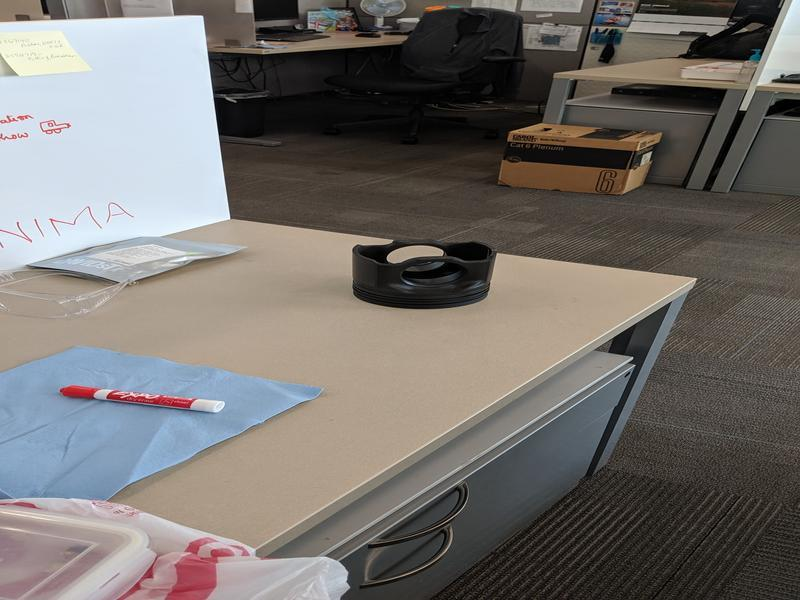piston: (348, 230, 500, 313)
